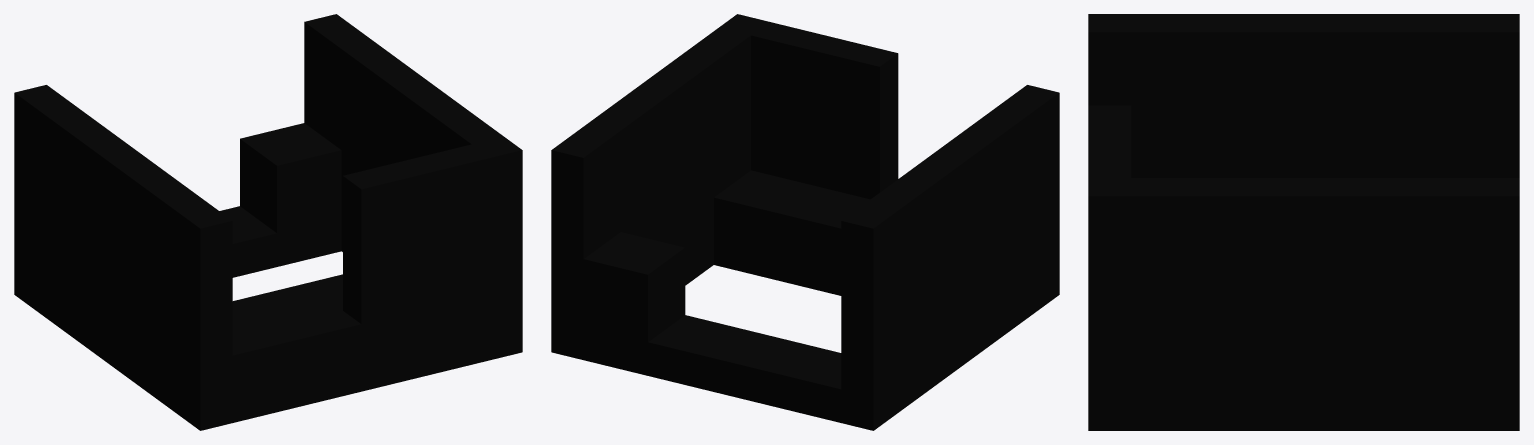
Rendered from stage.obj.
The picture shows the model from 3 angles, left to right: view 1: azimuth 30°, elevation 25°; view 2: azimuth 150°, elevation 25°; view 3: azimuth 270°, elevation 25°; orthographic projection. The views are drawn at different scales.
Bounding box in the file's own units: 1 × 0.6 × 1.
1 material, 1 textured.
